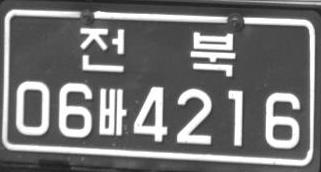0: (15, 79, 50, 136)
1: (221, 89, 255, 147)
2: (176, 87, 212, 144)
4: (133, 86, 167, 142)
6: (263, 91, 300, 148), (58, 81, 92, 139)
바: (99, 88, 127, 136)
전북_D: (79, 27, 237, 77)
